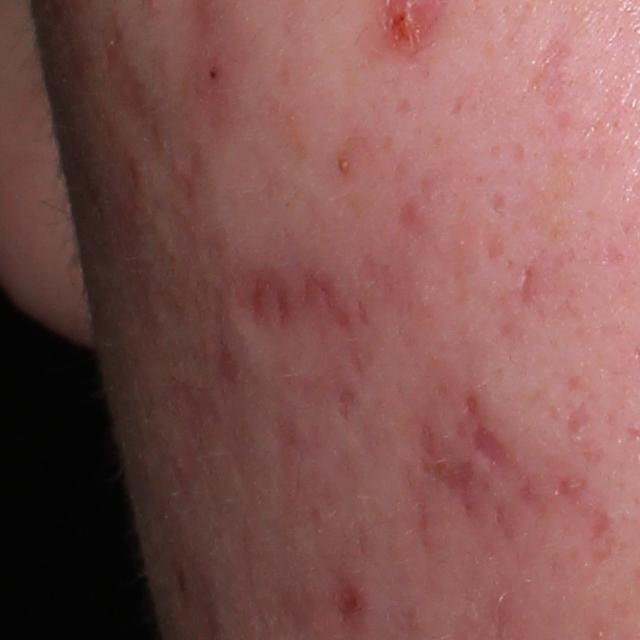atrophic_scar: (231, 276, 313, 353), (421, 430, 478, 512), (117, 49, 160, 135), (317, 563, 369, 631), (529, 34, 575, 109), (307, 276, 361, 336), (175, 388, 224, 451), (473, 429, 516, 469), (546, 470, 590, 508), (556, 407, 596, 445), (514, 270, 543, 305), (460, 388, 485, 423), (484, 226, 505, 260), (487, 190, 506, 215)
